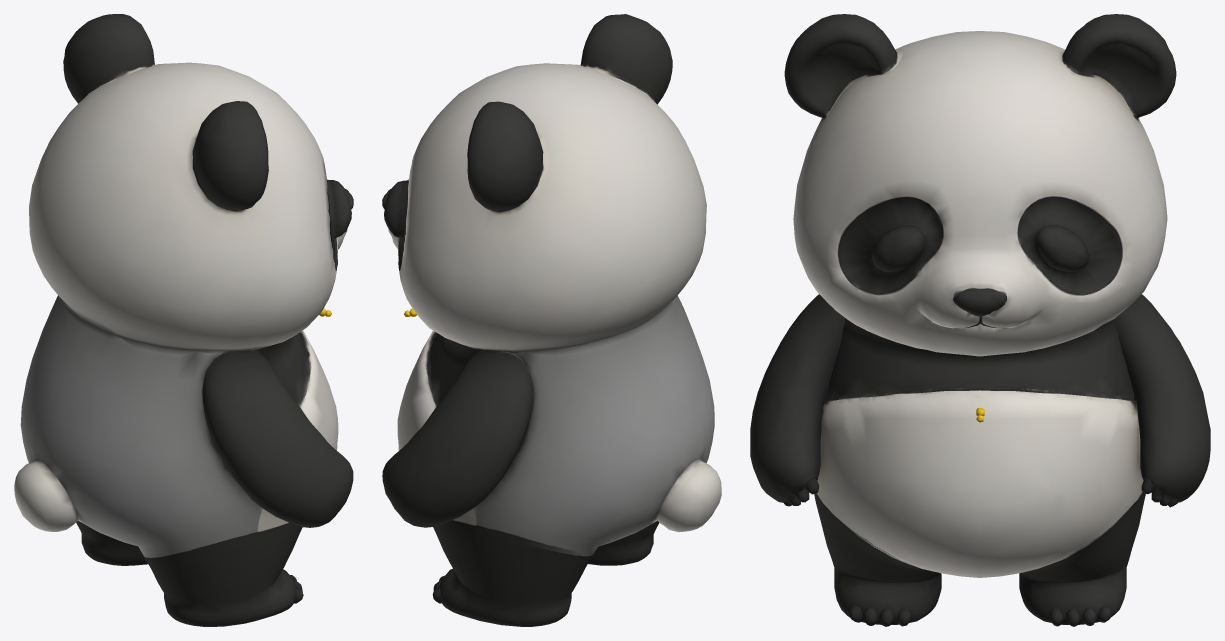
The model's file is r33-panda.glb.
3 views of the same model, side by side, from view 1: azimuth 30°, elevation 25°; view 2: azimuth 150°, elevation 25°; view 3: azimuth 270°, elevation 25° (orthographic). The views are drawn at different scales.
Parts seen in each view (by area): view 1: tripo_node_f79c83d1-cd53-4c2e-b28d-8cd938ec6a7c; view 2: tripo_node_f79c83d1-cd53-4c2e-b28d-8cd938ec6a7c; view 3: tripo_node_f79c83d1-cd53-4c2e-b28d-8cd938ec6a7c.
Boxes of the visible parts, x1,y1,x2,y2 form: tripo_node_f79c83d1-cd53-4c2e-b28d-8cd938ec6a7c: [14, 14, 353, 626]; tripo_node_f79c83d1-cd53-4c2e-b28d-8cd938ec6a7c: [382, 14, 721, 626]; tripo_node_f79c83d1-cd53-4c2e-b28d-8cd938ec6a7c: [750, 14, 1210, 626].
Bounding box in the file's own units: 0.6641 × 0.998 × 0.7285.
1 material, 1 textured.
